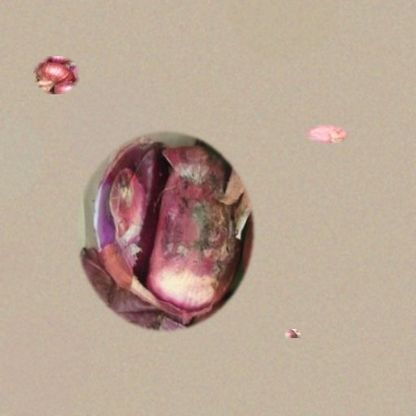damaged: (71, 125, 258, 336)
healthy: (33, 56, 80, 94), (306, 125, 349, 143)
sprouted: (285, 329, 301, 338)
